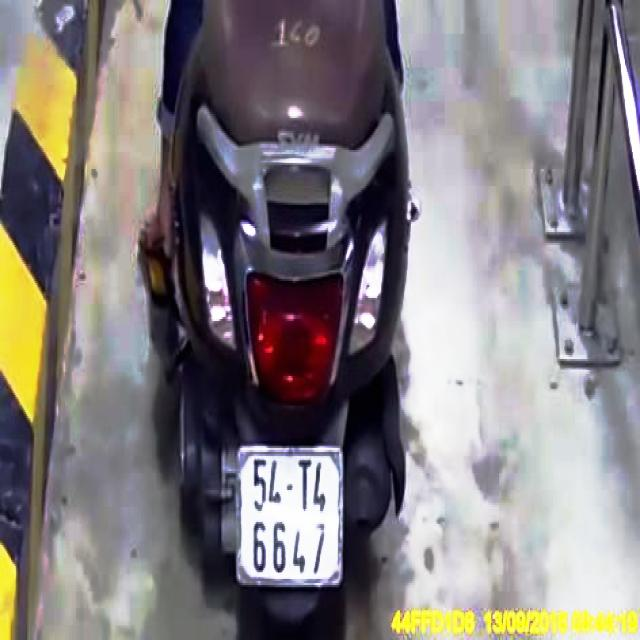license_plate: (237, 448, 343, 585)
